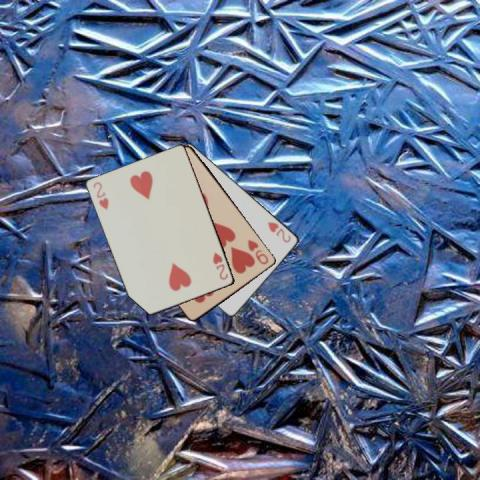2h: (264, 219, 292, 244), (90, 178, 110, 210), (210, 250, 229, 282)
9h: (245, 237, 270, 266)
